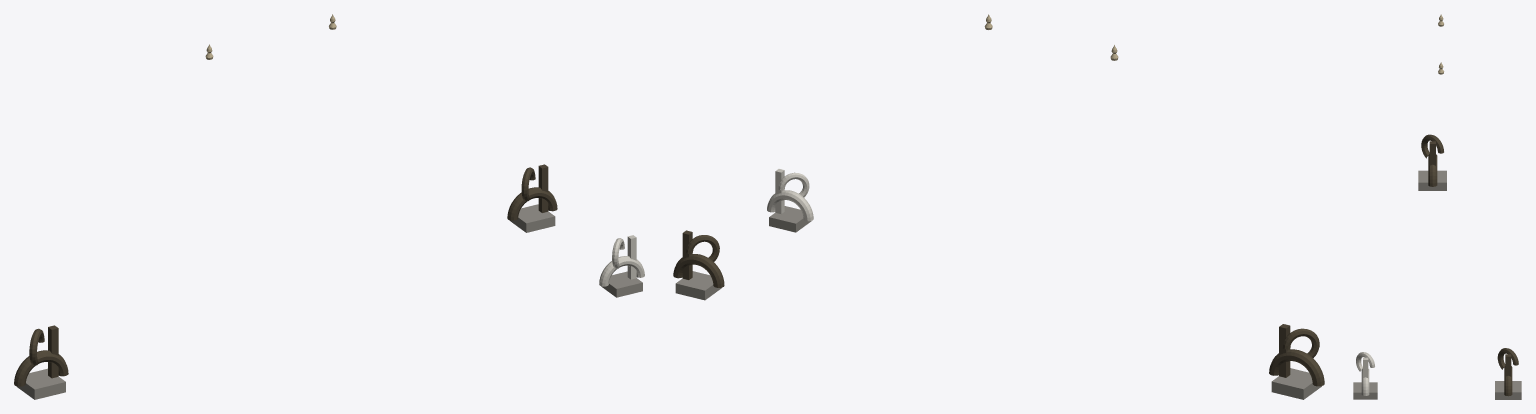
Rendered from diemphungthi-hero.glb.
3 renders of one model, left to right at view 1: azimuth 30°, elevation 25°; view 2: azimuth 150°, elevation 25°; view 3: azimuth 270°, elevation 25°, orthographic. The views are drawn at different scales.
Visible parts, largest first — view 1: diemphungthi_hero_ornaments; view 2: diemphungthi_hero_ornaments; view 3: diemphungthi_hero_ornaments.
Boxes of the visible parts, x1,y1,x2,y2 form: diemphungthi_hero_ornaments: (14, 14, 644, 399); diemphungthi_hero_ornaments: (673, 14, 1324, 399); diemphungthi_hero_ornaments: (1353, 14, 1521, 399).
Size of the model in its own units: 25.83 by 12.53 by 8.01.
